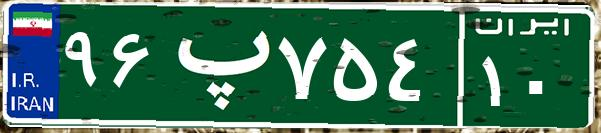0: (525, 38, 570, 115)
1: (475, 38, 525, 113)
4: (385, 28, 445, 110)
5: (330, 28, 385, 110)
6: (110, 28, 158, 105)
7: (273, 28, 330, 110)
9: (57, 26, 110, 107)
پ: (158, 15, 273, 115)
